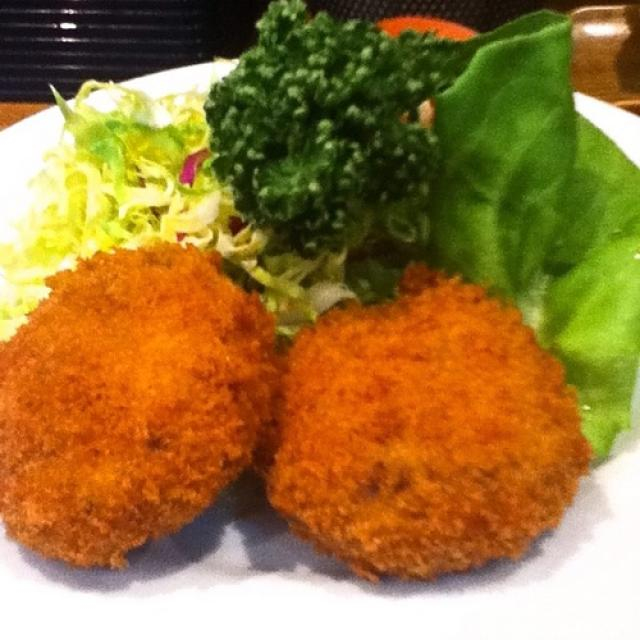炸货点心: (1, 8, 631, 623)
